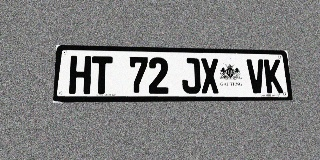2: (149, 57, 168, 94)
7: (128, 57, 148, 94)
H: (69, 56, 91, 94)
J: (181, 58, 201, 94)
K: (264, 59, 283, 93)
T: (91, 56, 112, 94)
V: (246, 59, 266, 93)
X: (200, 58, 220, 93)
